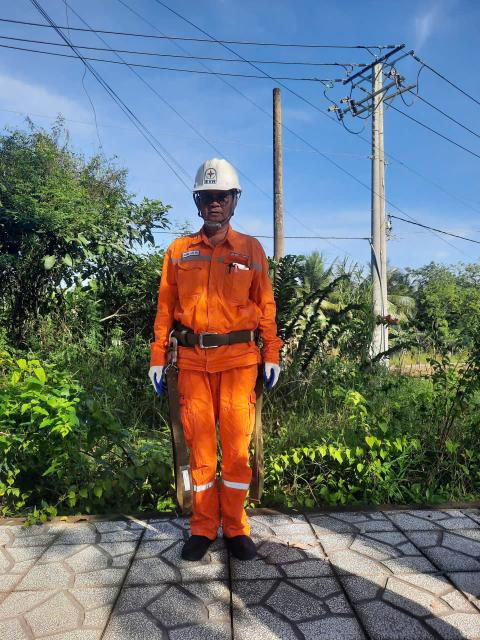gloves: (141, 355, 171, 399), (248, 359, 284, 390)
harness: (167, 322, 261, 354)
helmet: (186, 148, 251, 201)
shoes: (218, 526, 266, 566), (166, 528, 218, 564)
